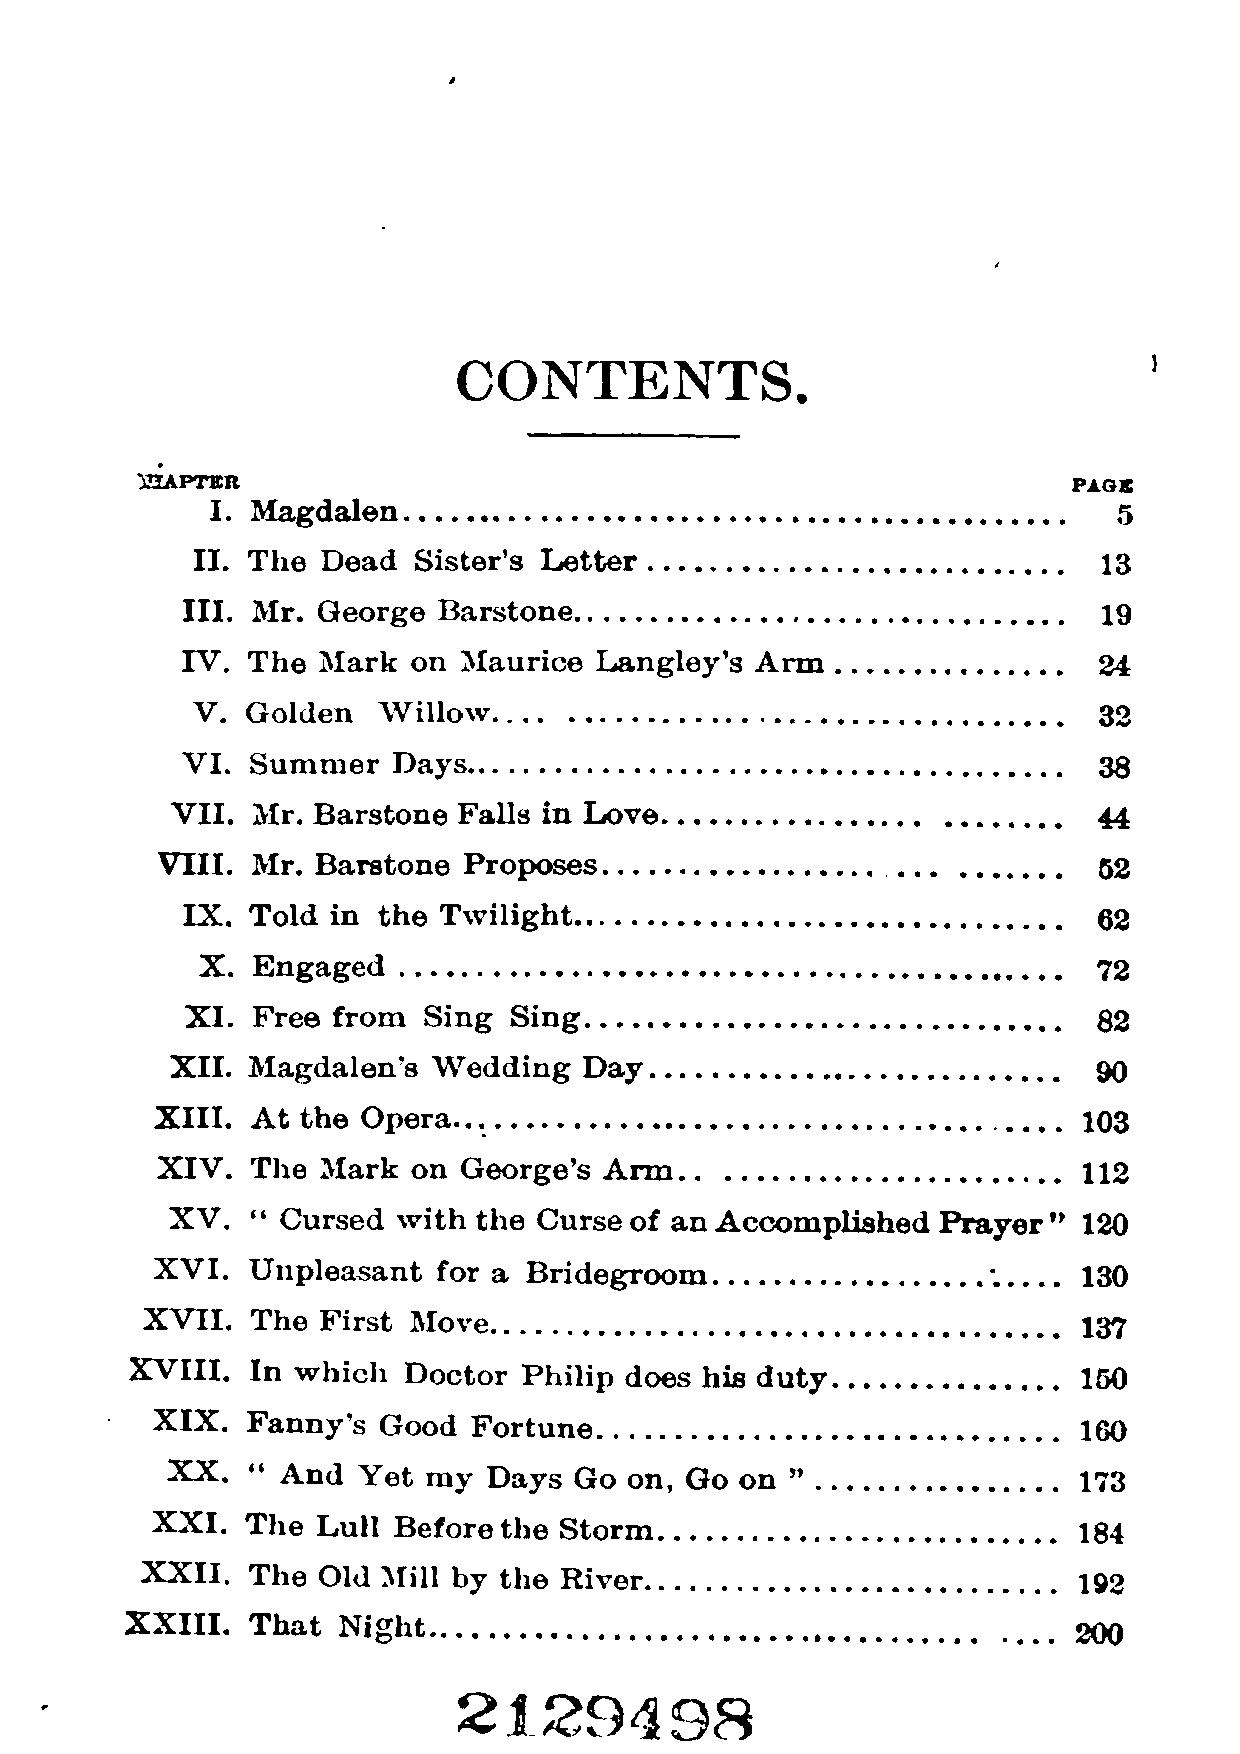TOC_chapter: (168, 1202, 1066, 1243), (119, 1355, 828, 1394), (165, 1457, 805, 1494), (149, 1253, 710, 1292), (183, 644, 827, 675), (140, 1555, 644, 1594), (156, 1149, 672, 1185), (153, 1508, 656, 1545), (169, 1048, 648, 1086), (152, 1406, 595, 1443), (156, 845, 596, 882), (187, 544, 637, 574), (178, 1000, 578, 1033), (166, 798, 656, 825), (178, 592, 573, 623), (181, 899, 570, 930), (119, 1606, 425, 1644), (144, 1302, 493, 1334), (152, 1099, 451, 1135), (180, 749, 466, 778), (192, 695, 488, 722), (195, 950, 386, 982), (205, 497, 399, 527), (1092, 951, 1133, 984)
TOC_pagenumber: (1083, 1104, 1131, 1137), (1083, 1206, 1131, 1239), (1079, 1464, 1127, 1495), (1078, 1514, 1126, 1545), (1074, 1618, 1125, 1647), (1082, 1416, 1129, 1445), (1082, 1158, 1130, 1186), (1082, 1311, 1129, 1339), (1082, 1363, 1129, 1392), (1083, 1261, 1129, 1290), (1076, 1570, 1125, 1594), (1095, 858, 1137, 883), (1094, 1057, 1131, 1086), (1095, 905, 1134, 931), (1096, 599, 1133, 627), (1098, 701, 1134, 729), (1099, 749, 1131, 780), (1098, 546, 1131, 576), (1098, 1007, 1133, 1035), (1096, 650, 1129, 678), (1098, 804, 1130, 831), (1111, 497, 1137, 526)
chapter: (452, 356, 811, 407)
